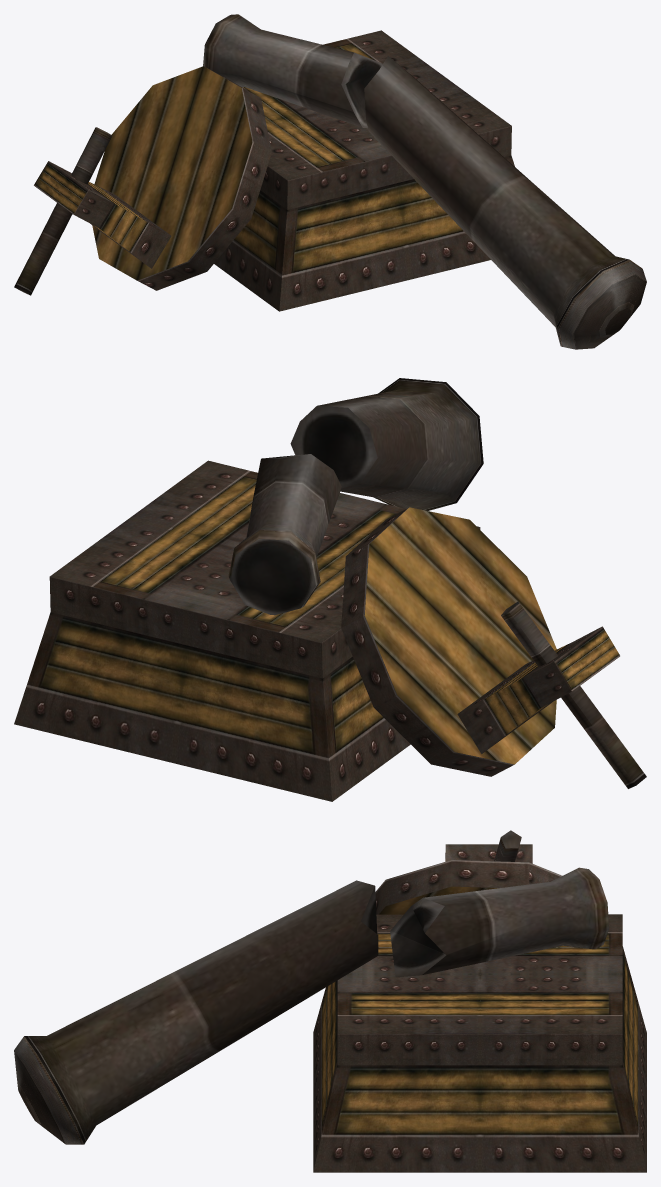
The model's file is cannon_broken_prop.fbx.
The picture shows the model from 3 angles, top to bottom: view 1: azimuth 30°, elevation 25°; view 2: azimuth 150°, elevation 25°; view 3: azimuth 270°, elevation 25°; orthographic projection. The views are drawn at different scales.
Visible parts, largest first — view 1: base, barrel_High, cannon_pivot_high, barrel_High1, L_support_High, cannon_axis_High; view 2: base, cannon_pivot_high, barrel_High, barrel_High1, L_support_High, cannon_axis_High; view 3: base, barrel_High, barrel_High1, cannon_pivot_high, L_support_High, cannon_axis_High.
Part boxes in pixels (x1=…): base: x1=214, y1=30, x2=514, y2=311; barrel_High: x1=364, y1=56, x2=646, y2=349; cannon_pivot_high: x1=92, y1=66, x2=271, y2=290; barrel_High1: x1=203, y1=14, x2=382, y2=128; L_support_High: x1=34, y1=161, x2=171, y2=268; cannon_axis_High: x1=14, y1=127, x2=112, y2=295; base: x1=14, y1=460, x2=480, y2=801; cannon_pivot_high: x1=341, y1=507, x2=556, y2=776; barrel_High: x1=290, y1=378, x2=483, y2=510; barrel_High1: x1=228, y1=454, x2=341, y2=615; L_support_High: x1=457, y1=626, x2=619, y2=753; cannon_axis_High: x1=501, y1=601, x2=646, y2=788; base: x1=313, y1=914, x2=646, y2=1172; barrel_High: x1=14, y1=880, x2=378, y2=1144; barrel_High1: x1=390, y1=867, x2=609, y2=977; cannon_pivot_high: x1=375, y1=860, x2=562, y2=914; L_support_High: x1=445, y1=844, x2=532, y2=863; cannon_axis_High: x1=494, y1=830, x2=521, y2=861.
Size of the model in its own units: 808 by 361 by 906.
Materials: 1 (1 with a texture image).
